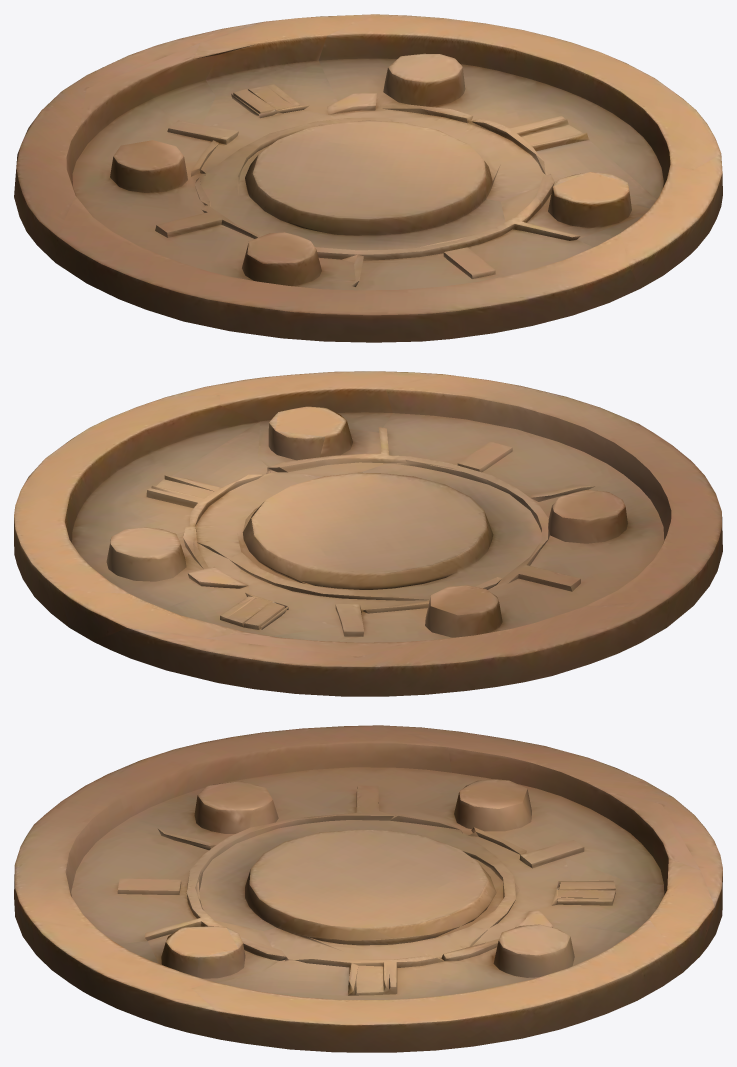
Rendered from m2BouncePadRound.glb.
3 views of the same model, one above another, from view 1: azimuth 30°, elevation 25°; view 2: azimuth 150°, elevation 25°; view 3: azimuth 270°, elevation 25° (orthographic).
Parts seen in each view (by area): view 1: model; view 2: model; view 3: model.
Part boxes in pixels (<box>): model: <box>14,14,722,342</box>; model: <box>14,371,722,696</box>; model: <box>14,725,722,1052</box>.
Bounding box in the file's own units: 1.9 × 0.096 × 1.9.
Materials: 1 (1 with a texture image).
